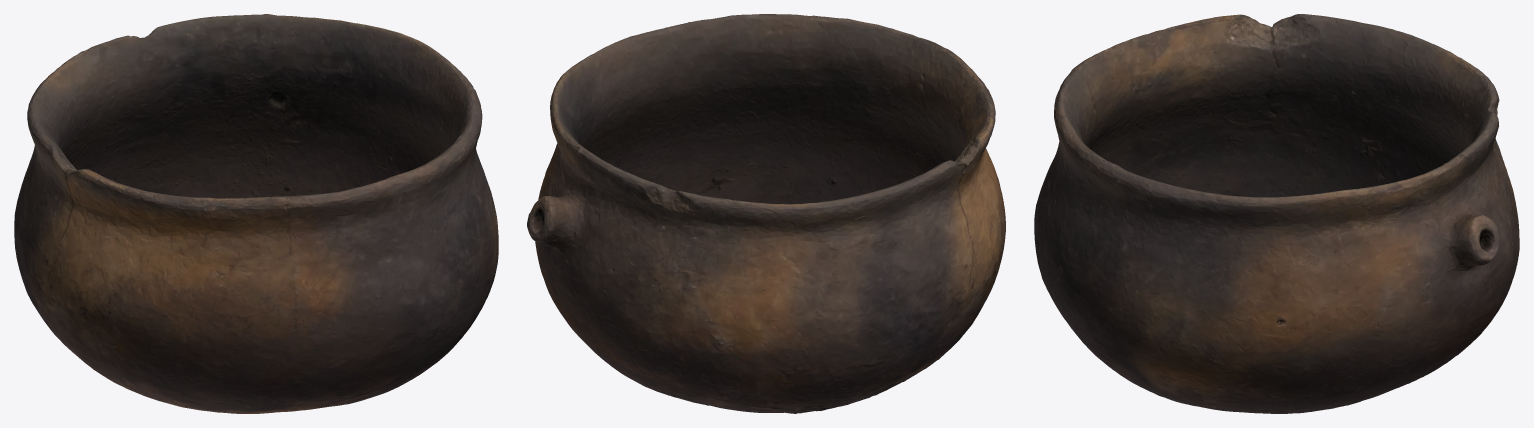
Rendered from Objeto_03-b.glb.
The picture shows the model from 3 angles, left to right: view 1: azimuth 30°, elevation 25°; view 2: azimuth 150°, elevation 25°; view 3: azimuth 270°, elevation 25°; orthographic projection.
Visible parts, largest first — view 1: Mesh_0; view 2: Mesh_0; view 3: Mesh_0.
Part boxes in pixels (left/top/right/bottom): Mesh_0: left=14, top=14, right=498, bottom=413; Mesh_0: left=527, top=14, right=1005, bottom=413; Mesh_0: left=1034, top=14, right=1519, bottom=413.
Bounding box in the file's own units: 0.2724 × 0.1735 × 0.2802.
1 material, 1 textured.
